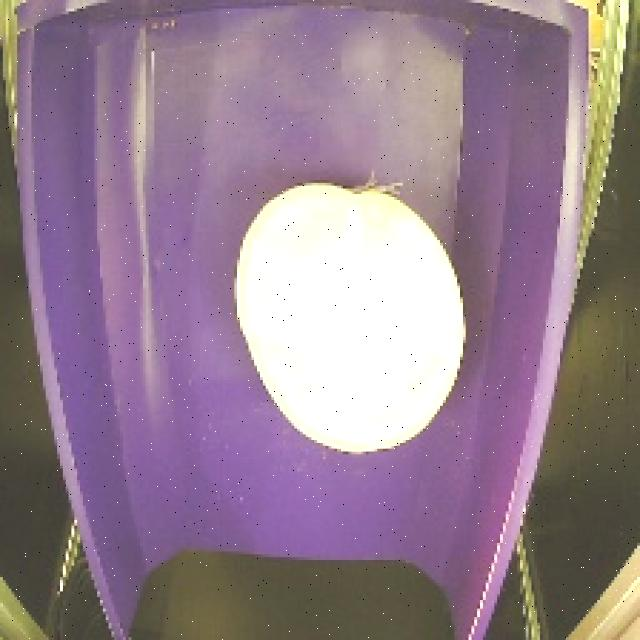white_radish: (224, 165, 478, 460)
